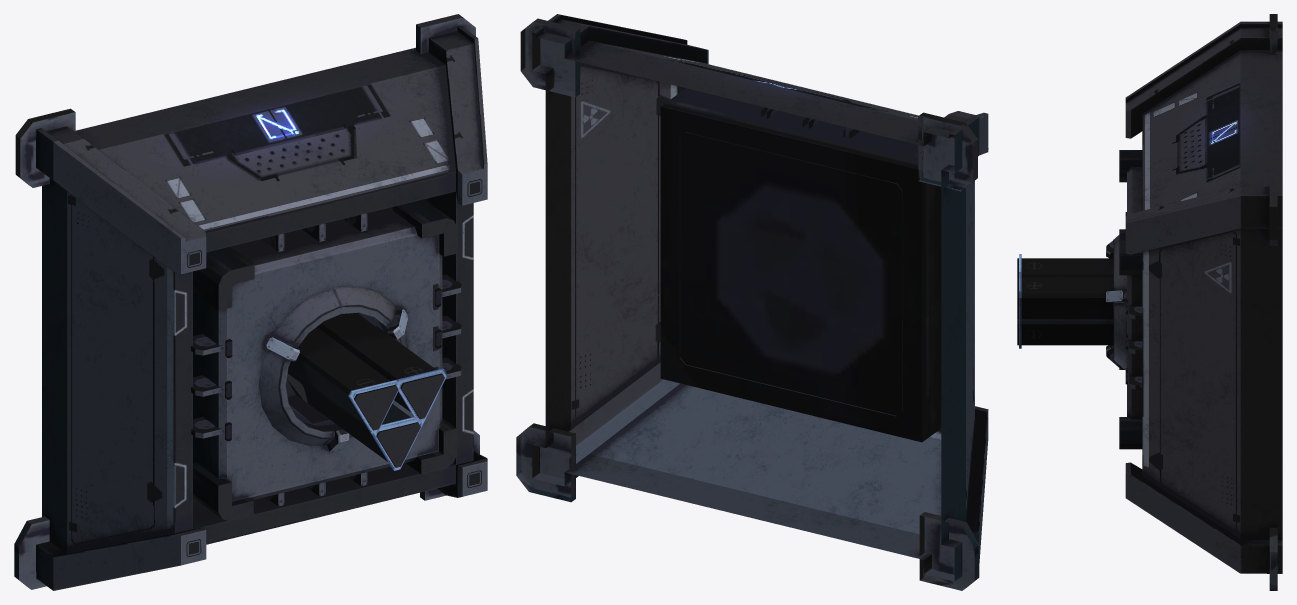
The model's file is trap_008_farm.glb.
3 views of the same model, side by side, from view 1: azimuth 30°, elevation 25°; view 2: azimuth 150°, elevation 25°; view 3: azimuth 270°, elevation 25° (orthographic). The views are drawn at different scales.
Parts seen in each view (by area): view 1: supply_base, supply_battery; view 2: supply_base; view 3: supply_base, supply_battery.
Part boxes in pixels (<box>): supply_base: <box>14,14,487,590</box>; supply_battery: <box>287,313,447,470</box>; supply_base: <box>516,14,988,590</box>; supply_base: <box>1106,14,1282,590</box>; supply_battery: <box>1017,254,1113,348</box>.
Bounding box in the file's own units: 0.9022 × 0.8864 × 0.5351.
1 material, 1 textured.
